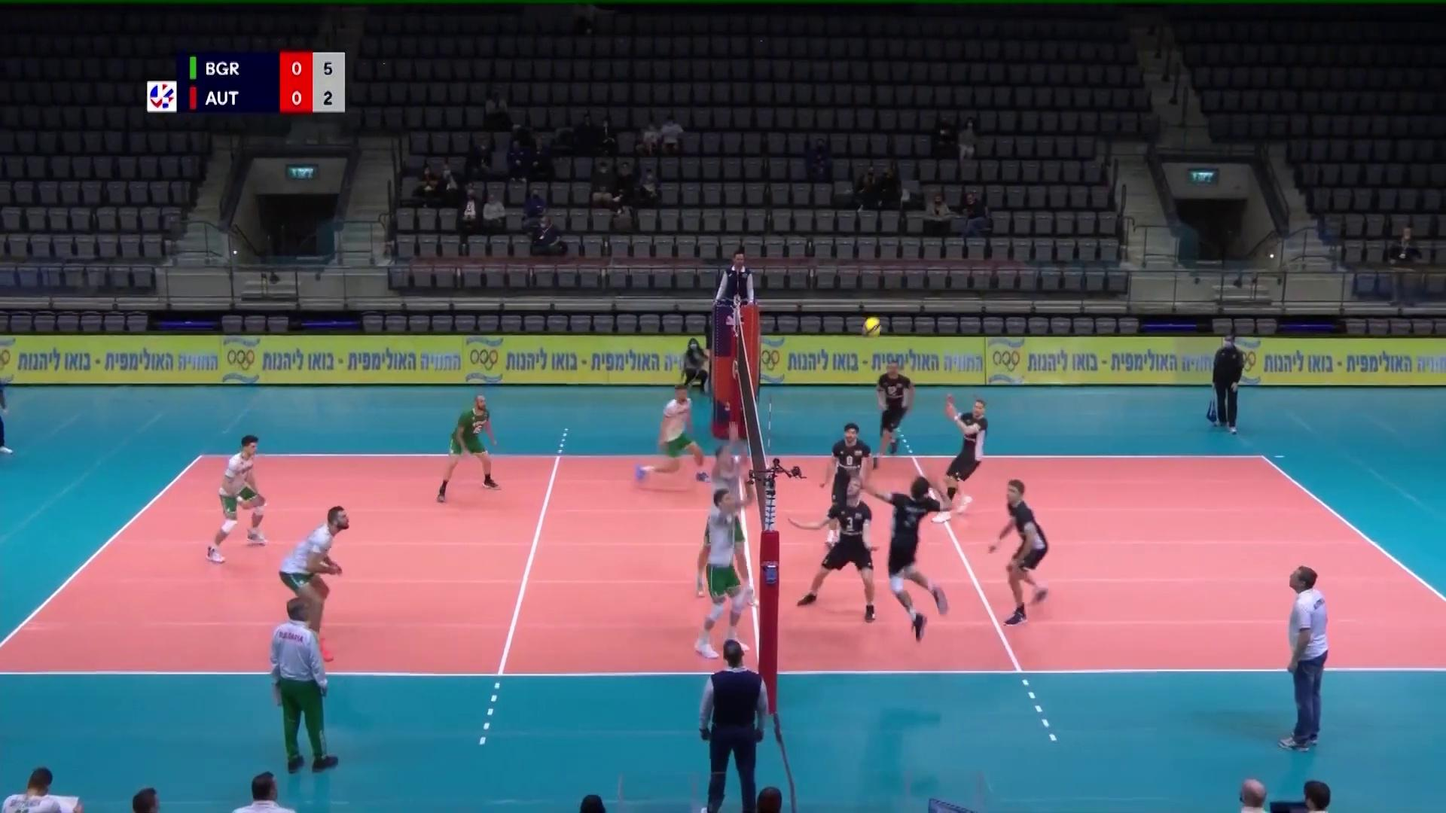ball: (863, 316, 882, 338)
